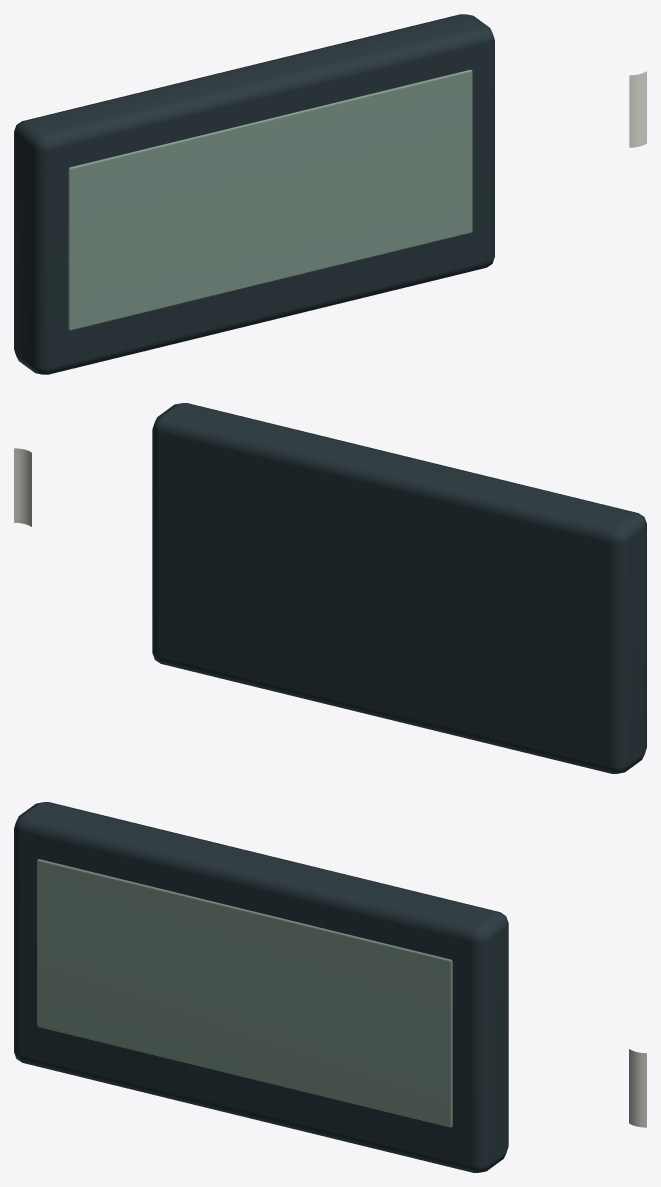
Rendered from VLAB_tachometer.fbx.
The picture shows the model from 3 angles, top to bottom: view 1: azimuth 30°, elevation 25°; view 2: azimuth 150°, elevation 25°; view 3: azimuth 330°, elevation 25°; orthographic projection. The views are drawn at different scales.
Visible parts, largest first — view 1: VLAB_tachometer_Display_VIS, VLAB_tachometer_SensorMarker_VIS; view 2: VLAB_tachometer_Display_VIS, VLAB_tachometer_SensorMarker_VIS; view 3: VLAB_tachometer_Display_VIS, VLAB_tachometer_SensorMarker_VIS.
Part boxes in pixels (x1,y1,x2,y2): VLAB_tachometer_Display_VIS: [14, 14, 494, 374]; VLAB_tachometer_SensorMarker_VIS: [629, 71, 646, 147]; VLAB_tachometer_Display_VIS: [152, 403, 646, 773]; VLAB_tachometer_SensorMarker_VIS: [14, 448, 31, 526]; VLAB_tachometer_Display_VIS: [14, 802, 508, 1172]; VLAB_tachometer_SensorMarker_VIS: [629, 1049, 646, 1127].
Bounding box in the file's own units: 0.1065 × 0.04 × 0.0096.
